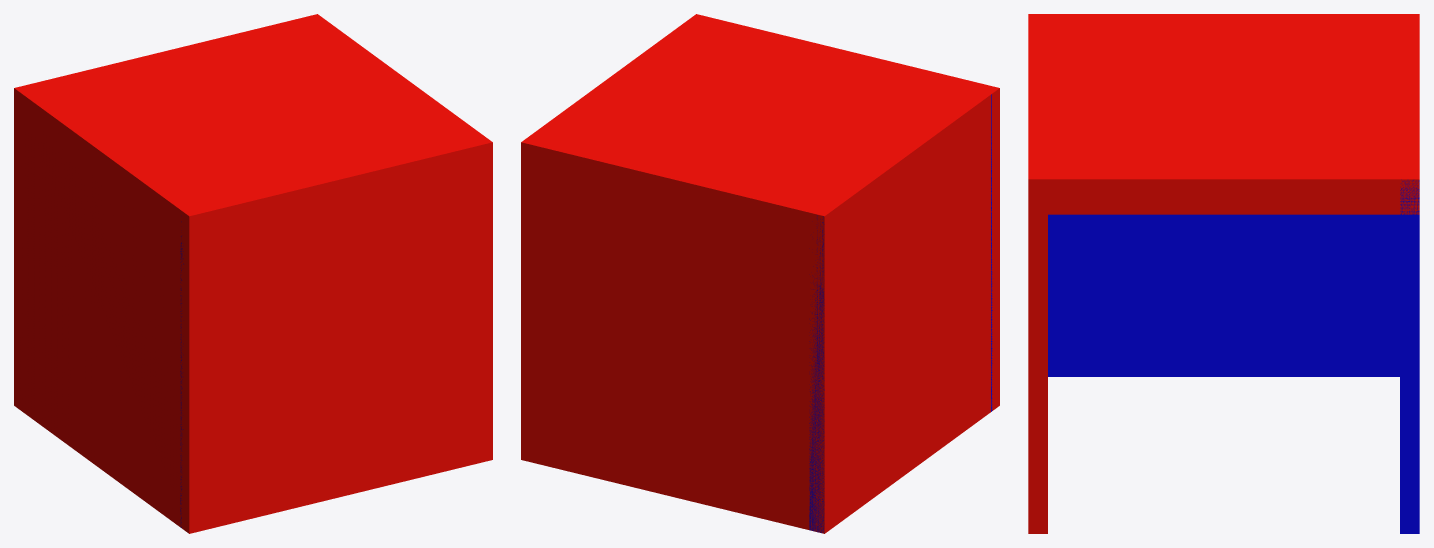
Rendered from ramp4.obj.
The picture shows the model from 3 angles, left to right: view 1: azimuth 30°, elevation 25°; view 2: azimuth 150°, elevation 25°; view 3: azimuth 270°, elevation 25°; orthographic projection. The views are drawn at different scales.
Parts seen in each view (by area): view 1: wall_taller, ceiling, wall_taller.002, wall_taller.001; view 2: wall_taller.001, ceiling, wall_taller.002, wall_taller; view 3: ceiling, wall_taller.002, wall_taller, wall_taller.001.
Boxes of the visible parts, box(x1,y1,x2,y2) form: wall_taller: box(180, 136, 492, 533); ceiling: box(14, 14, 492, 246); wall_taller.002: box(14, 84, 203, 533); wall_taller.001: box(14, 14, 324, 411); wall_taller.001: box(521, 136, 833, 533); ceiling: box(521, 14, 999, 247); wall_taller.002: box(809, 84, 999, 533); wall_taller: box(688, 14, 999, 411); ceiling: box(1028, 14, 1419, 214); wall_taller.002: box(1030, 14, 1419, 376); wall_taller: box(1028, 14, 1047, 533); wall_taller.001: box(1400, 14, 1419, 533).
Bounding box in the file's own units: 10 × 10 × 10.
